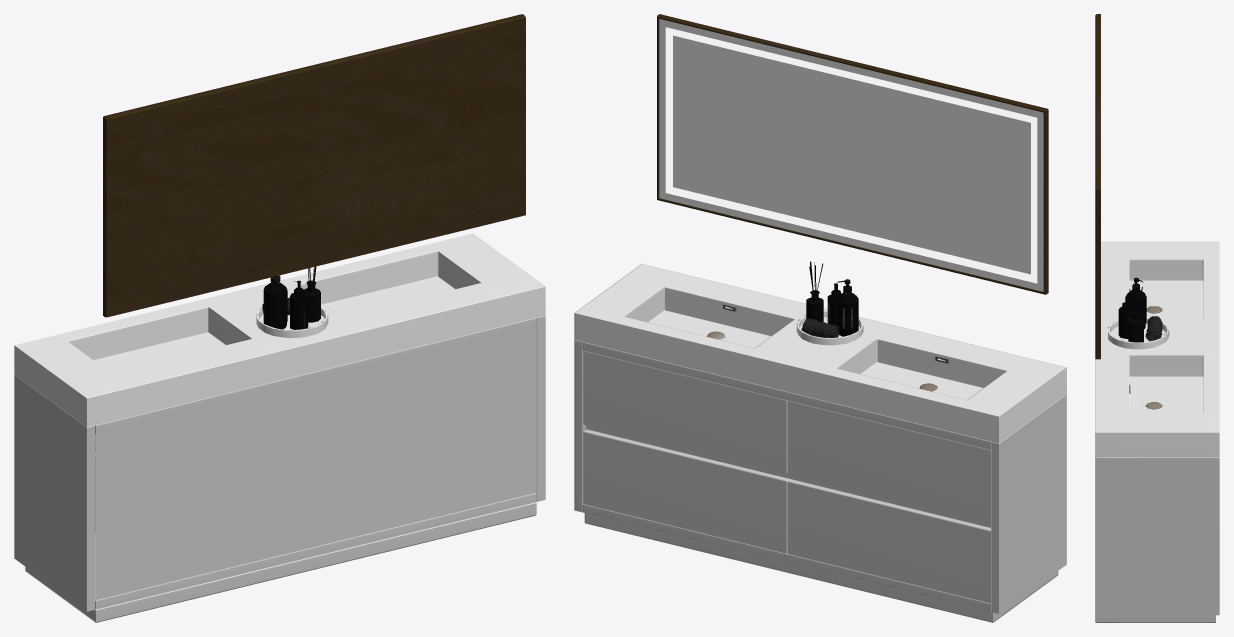
File: furniture_1.glb
3 renders of one model, left to right at view 1: azimuth 30°, elevation 25°; view 2: azimuth 150°, elevation 25°; view 3: azimuth 270°, elevation 25°, orthographic. The views are drawn at different scales.
Parts seen in each view (by area): view 1: GF_Cube.036, GF_Cube.035, GF_Cube.034, GF_Soap Dispense 2.001, GF_Circle.001, GF_soap dispenser.001; view 2: GF_Cube.036, GF_Cube.035, GF_Cube.034, GF_Soap Dispense 2.001, GF_Circle.001; view 3: GF_Cube.034, GF_Cube.036, GF_Cube.035, GF_Circle.001, GF_AROMA.001, GF_Soap Dispense 2.001, GF_soap dispenser.001, GF_Towel.002, GF_Icosphere.001.
Part boxes in pixels (x1,y1,x2,y2): GF_Cube.036: [14, 315, 545, 622]; GF_Cube.035: [103, 14, 525, 317]; GF_Cube.034: [14, 233, 545, 427]; GF_Soap Dispense 2.001: [263, 275, 287, 329]; GF_Circle.001: [256, 307, 328, 338]; GF_soap dispenser.001: [290, 280, 308, 329]; GF_Cube.036: [574, 340, 1066, 622]; GF_Cube.035: [657, 14, 1048, 294]; GF_Cube.034: [574, 264, 1066, 443]; GF_Soap Dispense 2.001: [836, 279, 858, 336]; GF_Circle.001: [796, 311, 863, 345]; GF_Cube.034: [1095, 241, 1219, 457]; GF_Cube.036: [1095, 457, 1219, 622]; GF_Cube.035: [1095, 14, 1100, 359]; GF_Circle.001: [1108, 318, 1169, 349]; GF_AROMA.001: [1128, 286, 1143, 342]; GF_Soap Dispense 2.001: [1126, 277, 1146, 328]; GF_soap dispenser.001: [1118, 296, 1132, 338]; GF_Towel.002: [1145, 316, 1162, 341]; GF_Icosphere.001: [1145, 306, 1162, 409].
Bounding box in the file's own units: 1.82 × 1.9 × 0.5.
Materials: 15 (8 with a texture image).
